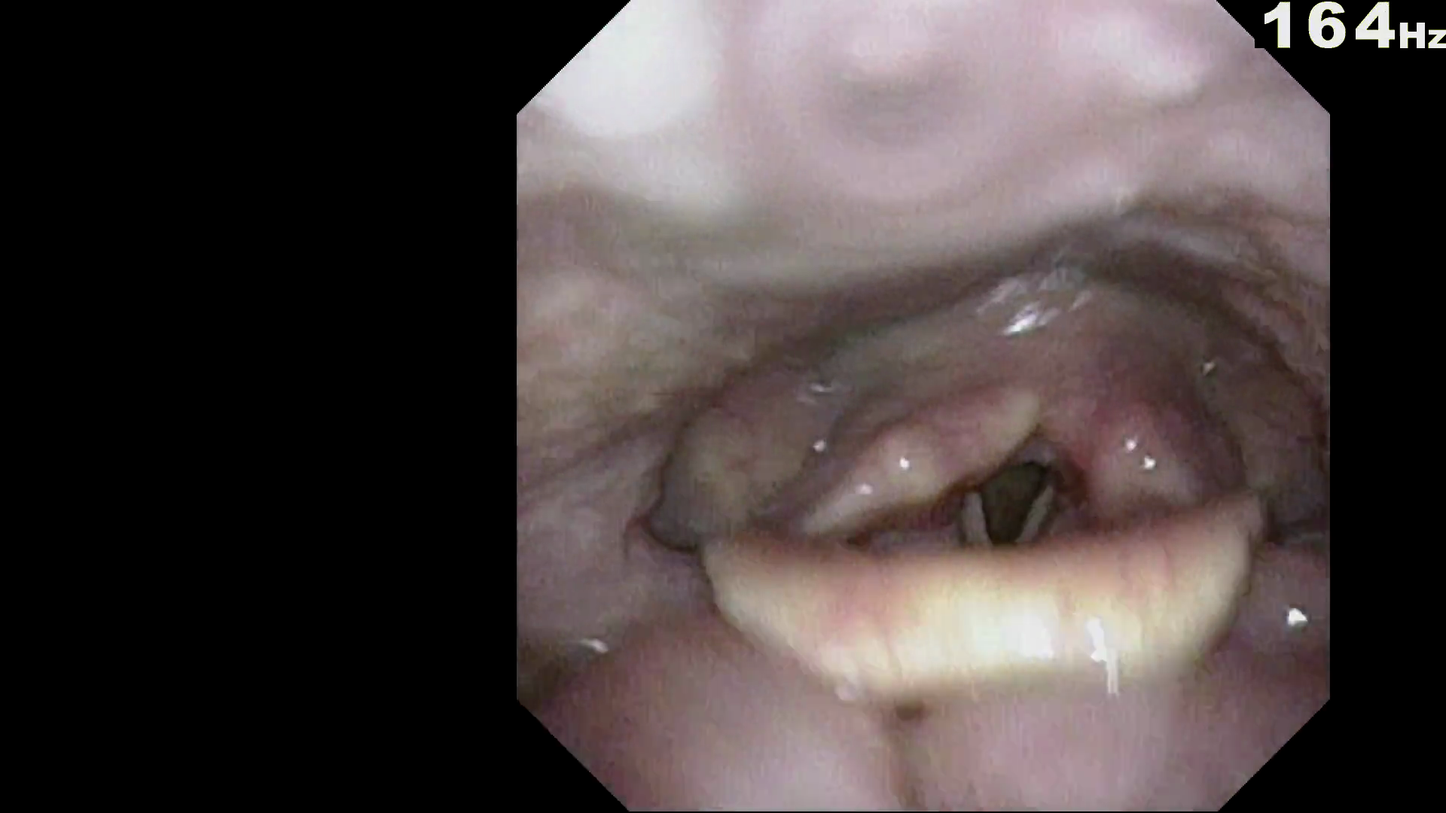epiglottis: (691, 417, 1175, 561)
